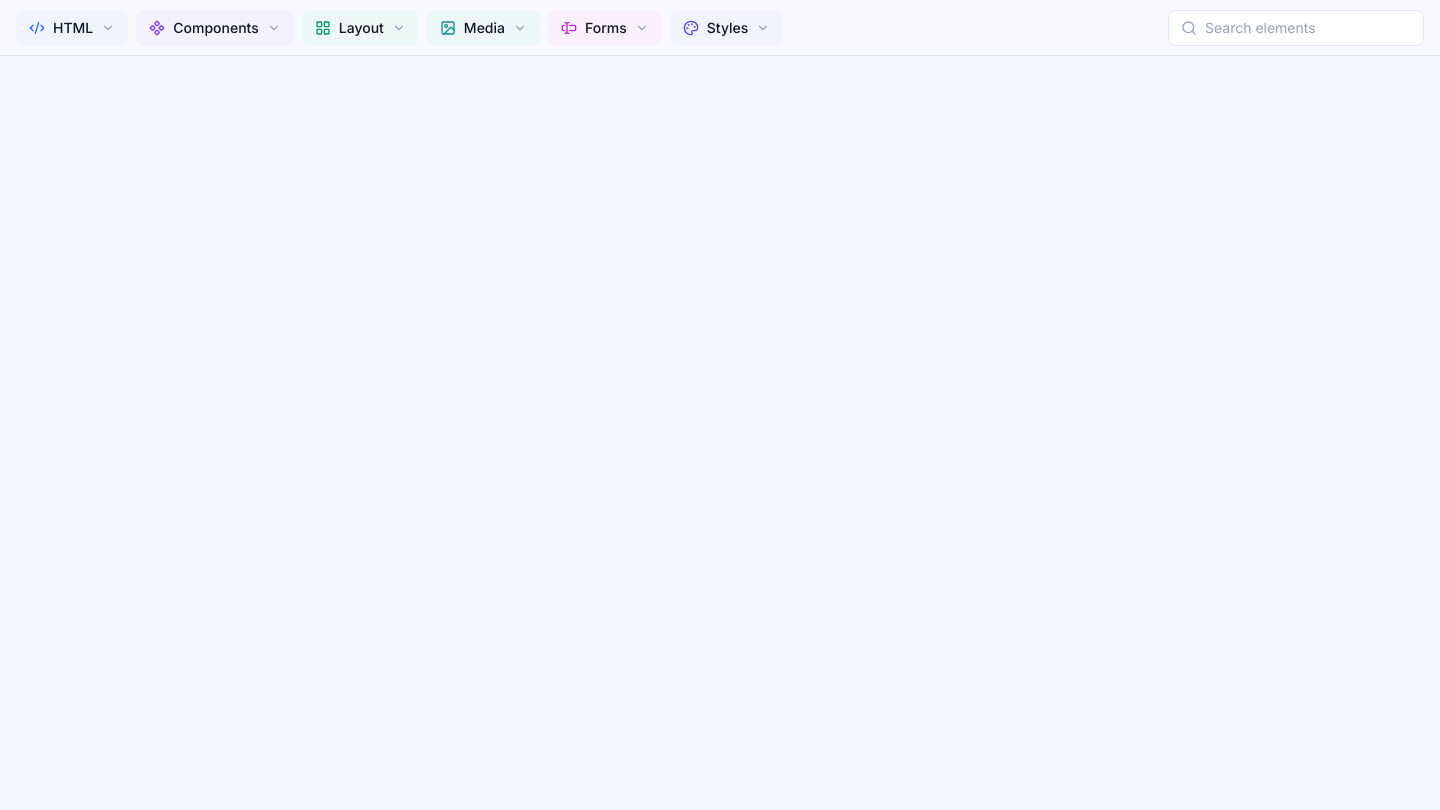
Test: CreationToolbar › shows the documented placeholder sections inside the HTML dropdown (Checkpoint 1.15.1: Forms/Media moved to their own categories, replaced here by Interactive)
Click the button "HTML".
click(72, 28)  # box [16,10,128,46]
(page scrolled)
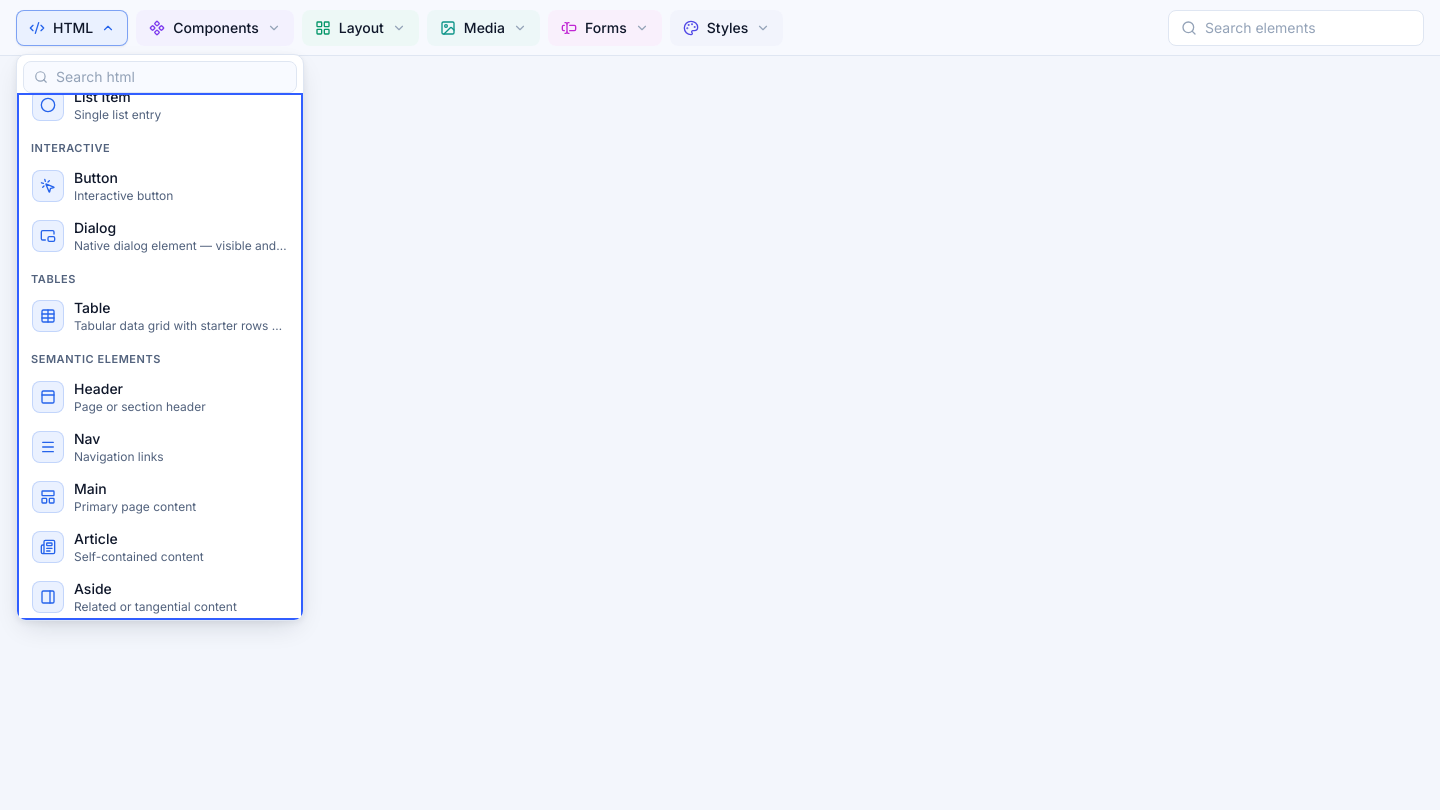
Expected: the text "Interactive" is shown, [31,141,110,155]
Expected: the text "Tables" is shown, [31,272,76,286]
Expected: the text "Semantic Elements" is shown, [31,352,161,366]
